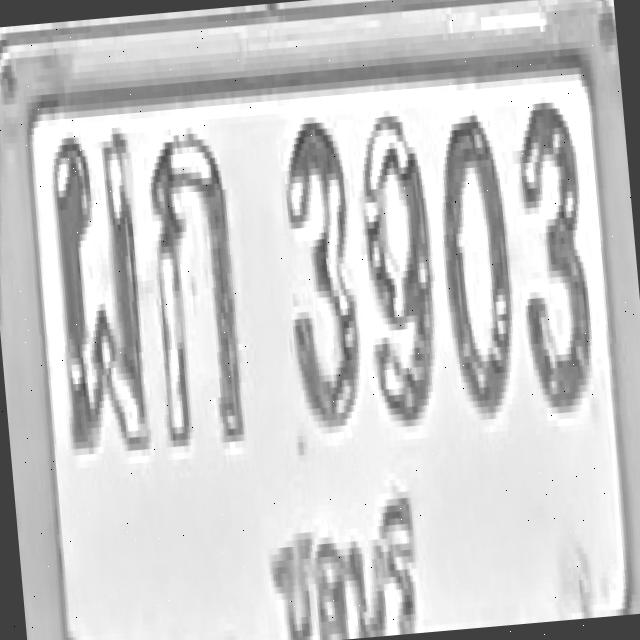0: (431, 106, 521, 414)
10GorGai: (140, 128, 248, 450)
3: (274, 114, 366, 429), (508, 96, 598, 412)
37PhorPhueng: (42, 127, 152, 456)
9: (351, 110, 443, 425)
Chonburi: (257, 480, 428, 640)
